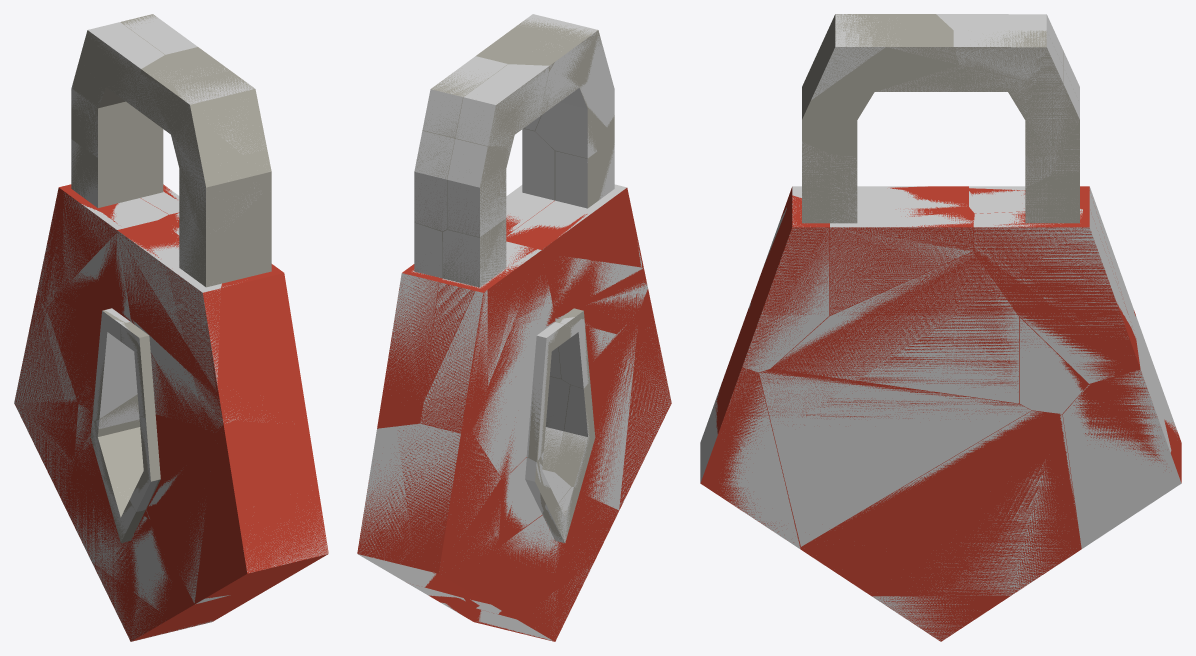
Rendered from padlock.fbx.
3 views of the same model, side by side, from view 1: azimuth 30°, elevation 25°; view 2: azimuth 150°, elevation 25°; view 3: azimuth 270°, elevation 25° (orthographic). The views are drawn at different scales.
Visible parts, largest first — view 1: Цилиндр, Цилиндр.001_cell.024, Цилиндр.001_cell.007, Цилиндр.001_cell.010, Цилиндр.001_cell.019, Цилиндр.001_cell.021, Цилиндр.001_cell.020, Цилиндр.001_cell.008, Цилиндр.001_cell.011, Цилиндр.001_cell.016, Цилиндр.001_cell.005, Цилиндр.001_cell.009 (+8 smaller); view 2: Цилиндр, Цилиндр.001_cell.007, Цилиндр.001_cell.010, Цилиндр.001_cell.020, Цилиндр.001_cell.008, Цилиндр.001_cell.016, Цилиндр.001_cell.011, Цилиндр.001_cell.015, Цилиндр.001_cell.003, Цилиндр.001_cell.012, Цилиндр.001_cell.024, Цилиндр.001_cell.004 (+10 smaller); view 3: Цилиндр, Цилиндр.001_cell.014, Цилиндр.001_cell, Цилиндр.001_cell.007, Цилиндр.001_cell.003, Цилиндр.001_cell.002, Цилиндр.001_cell.022, Цилиндр.001_cell.018, Цилиндр.001_cell.013, Цилиндр.001_cell.005, Цилиндр.001_cell.010, Цилиндр.001_cell.001 (+7 smaller).
Boxes of the visible parts, <box> form: Цилиндр: <box>14,14,328,641</box>; Цилиндр.001_cell.024: <box>117,219,221,391</box>; Цилиндр.001_cell.007: <box>14,297,77,509</box>; Цилиндр.001_cell.010: <box>47,232,137,420</box>; Цилиндр.001_cell.019: <box>67,476,171,613</box>; Цилиндр.001_cell.021: <box>119,236,235,432</box>; Цилиндр.001_cell.020: <box>63,139,168,287</box>; Цилиндр.001_cell.008: <box>132,74,261,232</box>; Цилиндр.001_cell.011: <box>83,22,164,104</box>; Цилиндр.001_cell.016: <box>129,416,205,602</box>; Цилиндр.001_cell.005: <box>123,14,197,54</box>; Цилиндр.001_cell.009: <box>121,319,190,422</box>; Цилиндр: <box>357,18,671,641</box>; Цилиндр.001_cell.007: <box>357,423,500,587</box>; Цилиндр.001_cell.010: <box>473,276,564,478</box>; Цилиндр.001_cell.020: <box>425,219,541,397</box>; Цилиндр.001_cell.008: <box>535,35,614,158</box>; Цилиндр.001_cell.016: <box>559,324,637,510</box>; Цилиндр.001_cell.011: <box>455,64,549,146</box>; Цилиндр.001_cell.015: <box>420,290,487,432</box>; Цилиндр.001_cell.003: <box>387,222,442,396</box>; Цилиндр.001_cell.012: <box>447,139,511,237</box>; Цилиндр.001_cell.024: <box>507,143,641,266</box>; Цилиндр.001_cell.004: <box>414,131,454,231</box>; Цилиндр: <box>700,14,1181,641</box>; Цилиндр.001_cell.014: <box>759,371,1031,546</box>; Цилиндр.001_cell: <box>774,252,1018,403</box>; Цилиндр.001_cell.007: <box>1062,315,1181,548</box>; Цилиндр.001_cell.003: <box>973,175,1135,383</box>; Цилиндр.001_cell.002: <box>830,154,973,314</box>; Цилиндр.001_cell.022: <box>700,368,800,548</box>; Цилиндр.001_cell.018: <box>742,141,829,372</box>; Цилиндр.001_cell.013: <box>845,410,1076,595</box>; Цилиндр.001_cell.005: <box>953,30,1063,86</box>; Цилиндр.001_cell.010: <box>1019,318,1082,413</box>; Цилиндр.001_cell.001: <box>811,14,885,100</box>.
Bounding box in the file's own units: 0.431 × 2.58 × 1.9.
